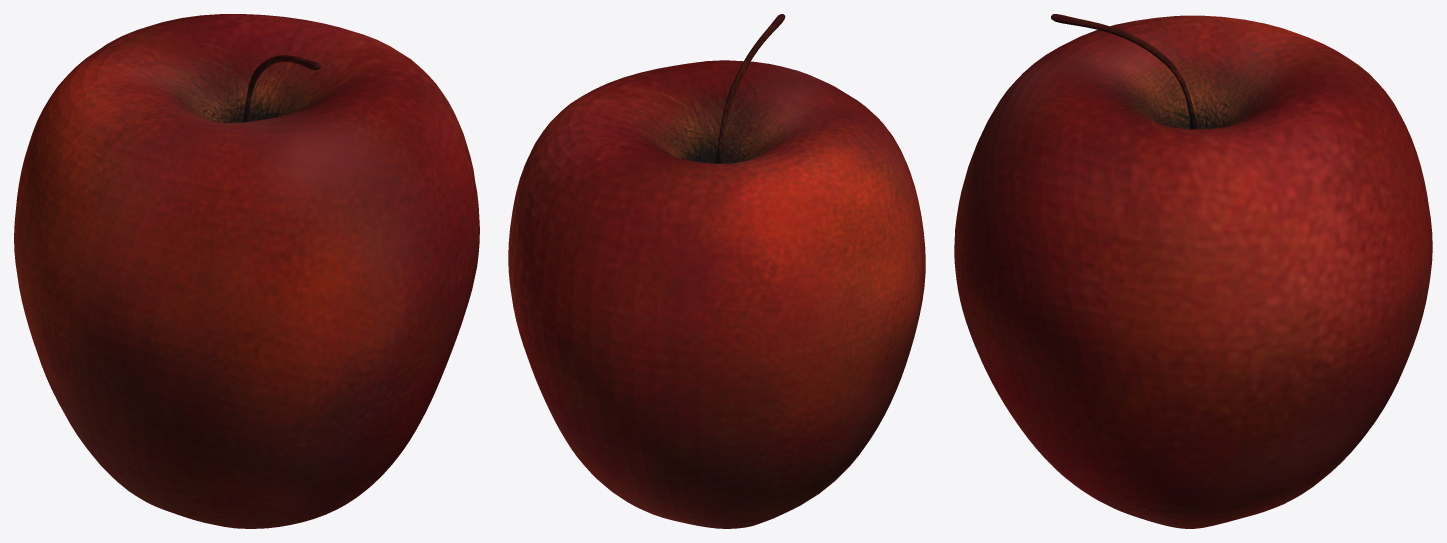
File: apple.OBJ
The picture shows the model from 3 angles, left to right: view 1: azimuth 30°, elevation 25°; view 2: azimuth 150°, elevation 25°; view 3: azimuth 270°, elevation 25°; orthographic projection. The views are drawn at different scales.
Visible parts, largest first — view 1: Group1; view 2: Group1; view 3: Group1.
Part boxes in pixels (bbox=[...]): Group1: bbox=[14, 14, 479, 528]; Group1: bbox=[508, 14, 925, 528]; Group1: bbox=[954, 14, 1432, 528].
Bounding box in the file's own units: 64.64 × 76.3 × 68.12.
